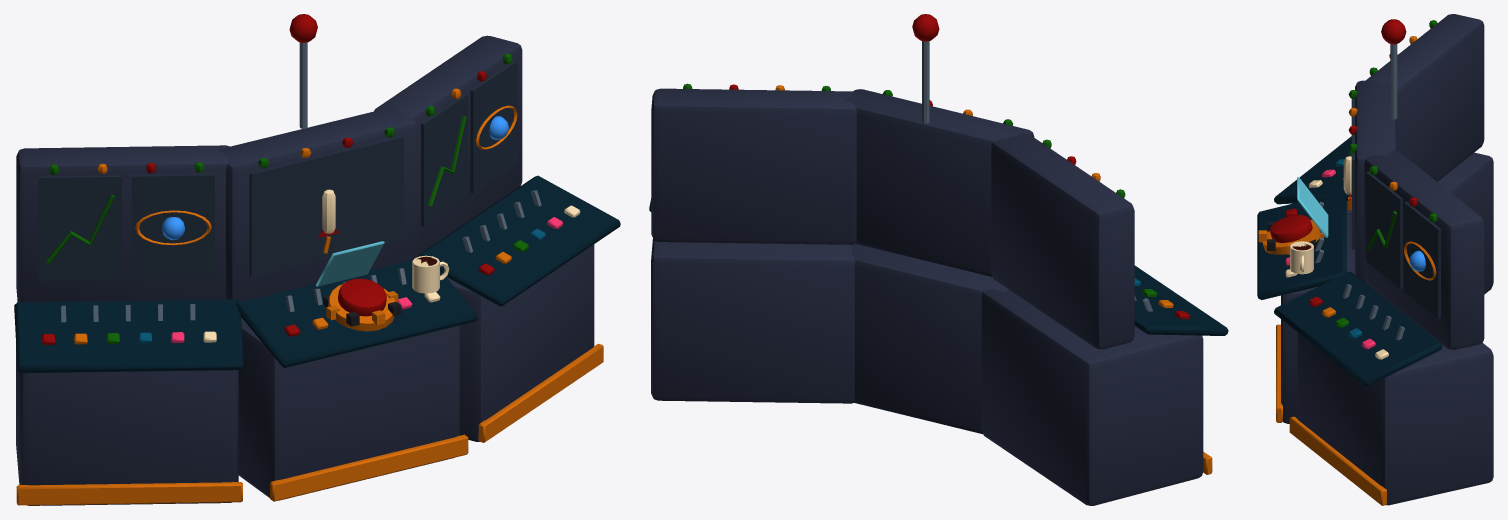
The model's file is MissionConsole.obj.
3 views of the same model, side by side, from view 1: azimuth 30°, elevation 25°; view 2: azimuth 150°, elevation 25°; view 3: azimuth 270°, elevation 25° (orthographic). The views are drawn at different scales.
Parts seen in each view (by area): view 1: MissionConsole; view 2: MissionConsole; view 3: MissionConsole.
Part boxes in pixels (bbox=[...]): MissionConsole: bbox=[14, 14, 620, 505]; MissionConsole: bbox=[649, 14, 1228, 505]; MissionConsole: bbox=[1257, 14, 1493, 505].
Size of the model in its own units: 8.61 by 5.73 by 3.35.
